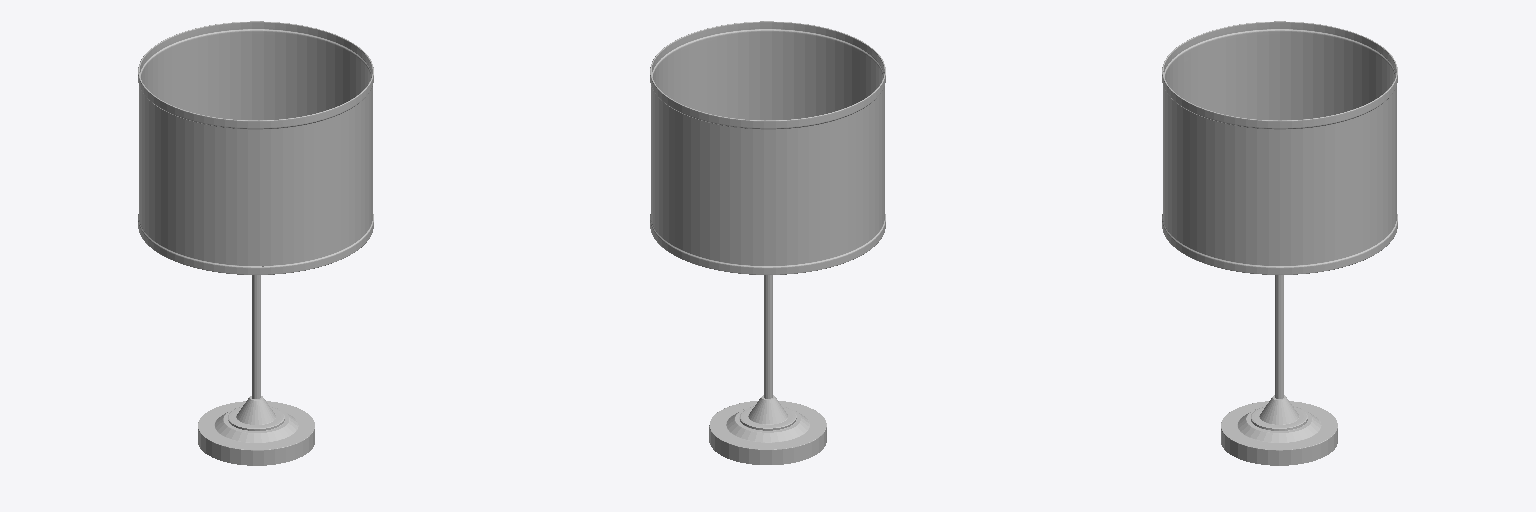
File: Asta LG1.obj
The picture shows the model from 3 angles: view 1: azimuth 30°, elevation 25°; view 2: azimuth 150°, elevation 25°; view 3: azimuth 270°, elevation 25°; orthographic projection.
Parts seen in each view (by area): view 1: Plafon.001_Cylinder.001, Metal_Cylinder.002; view 2: Plafon.001_Cylinder.001, Metal_Cylinder.002; view 3: Plafon.001_Cylinder.001, Metal_Cylinder.002.
Part boxes in pixels (bbox=[...]): Plafon.001_Cylinder.001: bbox=[138, 21, 373, 274]; Metal_Cylinder.002: bbox=[198, 266, 314, 465]; Plafon.001_Cylinder.001: bbox=[650, 21, 885, 274]; Metal_Cylinder.002: bbox=[709, 275, 826, 464]; Plafon.001_Cylinder.001: bbox=[1162, 21, 1397, 274]; Metal_Cylinder.002: bbox=[1221, 275, 1337, 465].
Size of the model in its own units: 0.9537 by 1.65 by 0.9537.